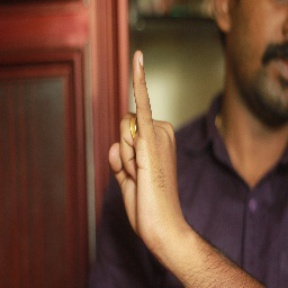I: (99, 51, 195, 220)
